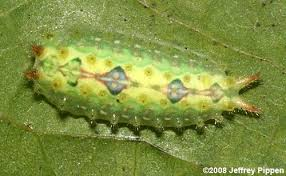Pest! (nettle_caterpillar): (21, 32, 268, 136)
